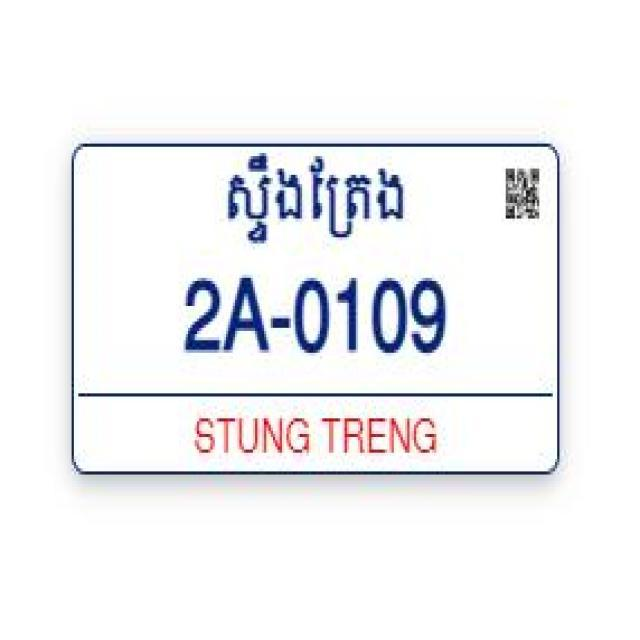Stung_Treng: (224, 153, 406, 247)
